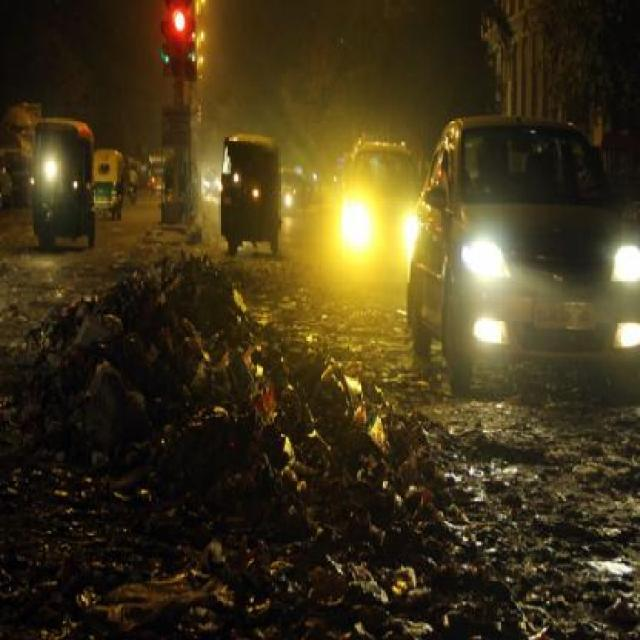garbage: (58, 266, 393, 538)
